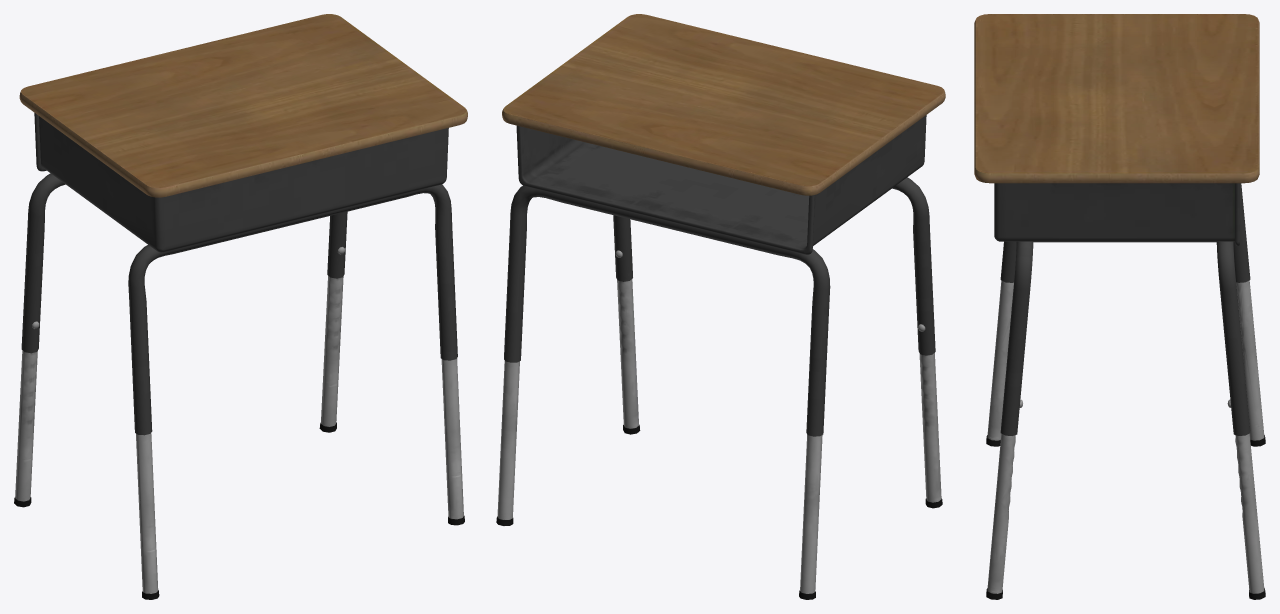
File: schooldesk_01.glb
3 renders of one model, left to right at view 1: azimuth 30°, elevation 25°; view 2: azimuth 150°, elevation 25°; view 3: azimuth 270°, elevation 25°, orthographic. The views are drawn at different scales.
Parts seen in each view (by area): view 1: SchoolDesk_01; view 2: SchoolDesk_01; view 3: SchoolDesk_01.
Boxes of the visible parts, x1,y1,x2,y2 form: SchoolDesk_01: [14, 14, 467, 599]; SchoolDesk_01: [496, 14, 945, 599]; SchoolDesk_01: [974, 14, 1265, 599].
Size of the model in its own units: 0.7117 by 0.8826 by 0.546.
Materials: 1 (1 with a texture image).
